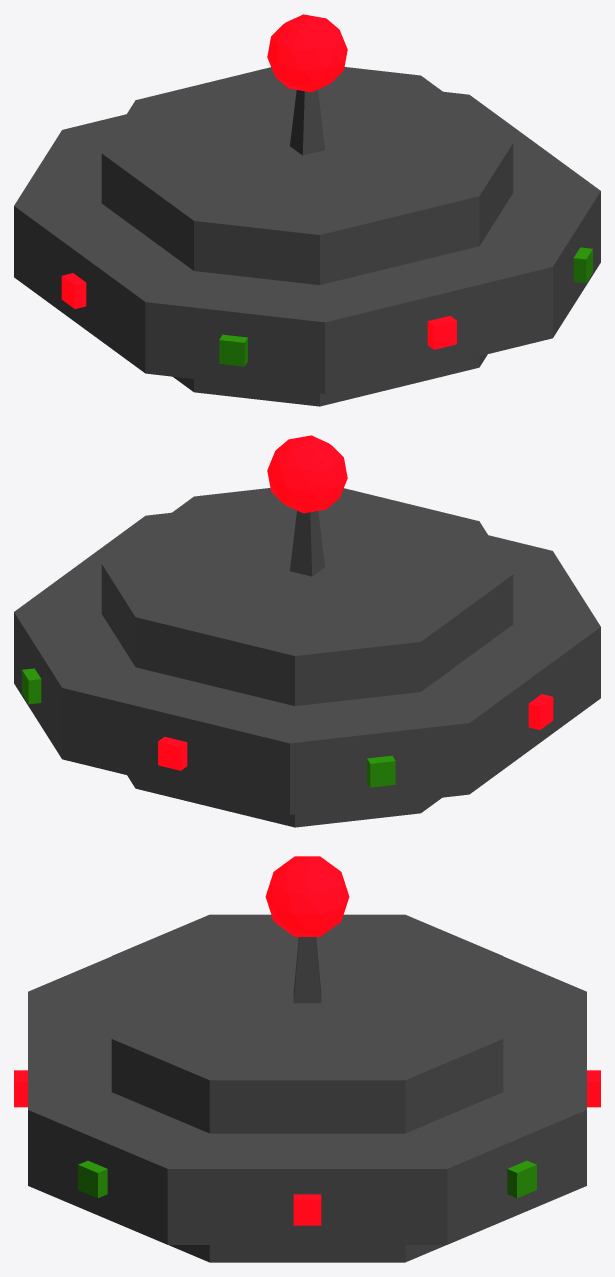
The model's file is SpaceShip.fbx.
3 renders of one model, top to bottom at view 1: azimuth 30°, elevation 25°; view 2: azimuth 150°, elevation 25°; view 3: azimuth 270°, elevation 25°, orthographic. The views are drawn at different scales.
Parts seen in each view (by area): view 1: Cube, Cube.002, Icosphere, Cube.003, Cube.004, Cube.008, Cube.009, Cube.005, Cube.012; view 2: Cube, Cube.002, Icosphere, Cube.003, Cube.004, Cube.007, Cube.010, Cube.005, Cube.011; view 3: Cube, Cube.002, Icosphere, Cube.003, Cube.004, Cube.012, Cube.011, Cube.006.
Part boxes in pixels (left/top/right/bottom): Cube: left=14, top=91, right=600, bottom=393; Cube.002: left=101, top=67, right=513, bottom=285; Icosphere: left=267, top=14, right=347, bottom=92; Cube.003: left=173, top=354, right=487, bottom=406; Cube.004: left=290, top=89, right=324, bottom=155; Cube.008: left=427, top=315, right=456, bottom=349; Cube.009: left=219, top=334, right=247, bottom=366; Cube.005: left=61, top=273, right=86, bottom=308; Cube.012: left=573, top=247, right=592, bottom=283; Cube: left=14, top=512, right=600, bottom=814; Cube.002: left=101, top=488, right=513, bottom=706; Icosphere: left=267, top=435, right=347, bottom=513; Cube.003: left=127, top=775, right=441, bottom=827; Cube.004: left=290, top=510, right=324, bottom=576; Cube.007: left=158, top=736, right=187, bottom=770; Cube.010: left=367, top=755, right=395, bottom=787; Cube.005: left=528, top=694, right=553, bottom=729; Cube.011: left=22, top=668, right=41, bottom=704; Cube: left=28, top=956, right=586, bottom=1244; Cube.002: left=111, top=914, right=503, bottom=1133; Icosphere: left=265, top=856, right=349, bottom=936; Cube.003: left=169, top=1245, right=445, bottom=1262; Cube.004: left=293, top=937, right=321, bottom=1003; Cube.012: left=78, top=1160, right=107, bottom=1198; Cube.011: left=507, top=1160, right=536, bottom=1198; Cube.006: left=293, top=1194, right=321, bottom=1225.
Size of the model in its own units: 10.5 by 6.34 by 10.5.
